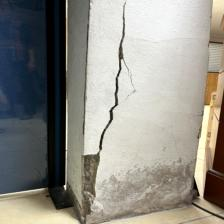High: (82, 1, 139, 224)
